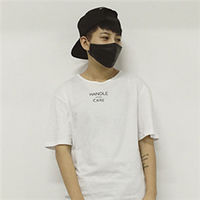face_mask: (90, 25, 122, 68)
